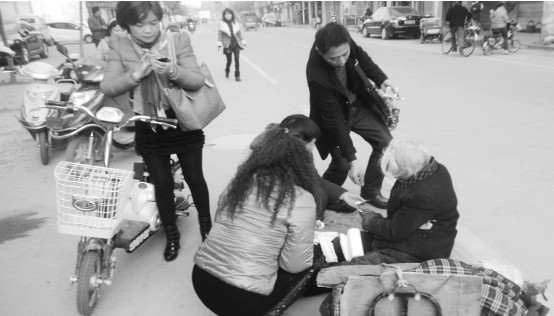fall: (324, 131, 468, 292)
